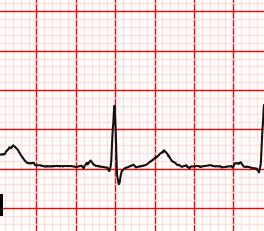ST Depression: (107, 161, 131, 192)
